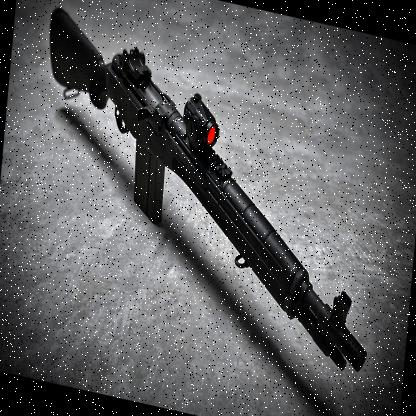rifle: (17, 0, 395, 383)
